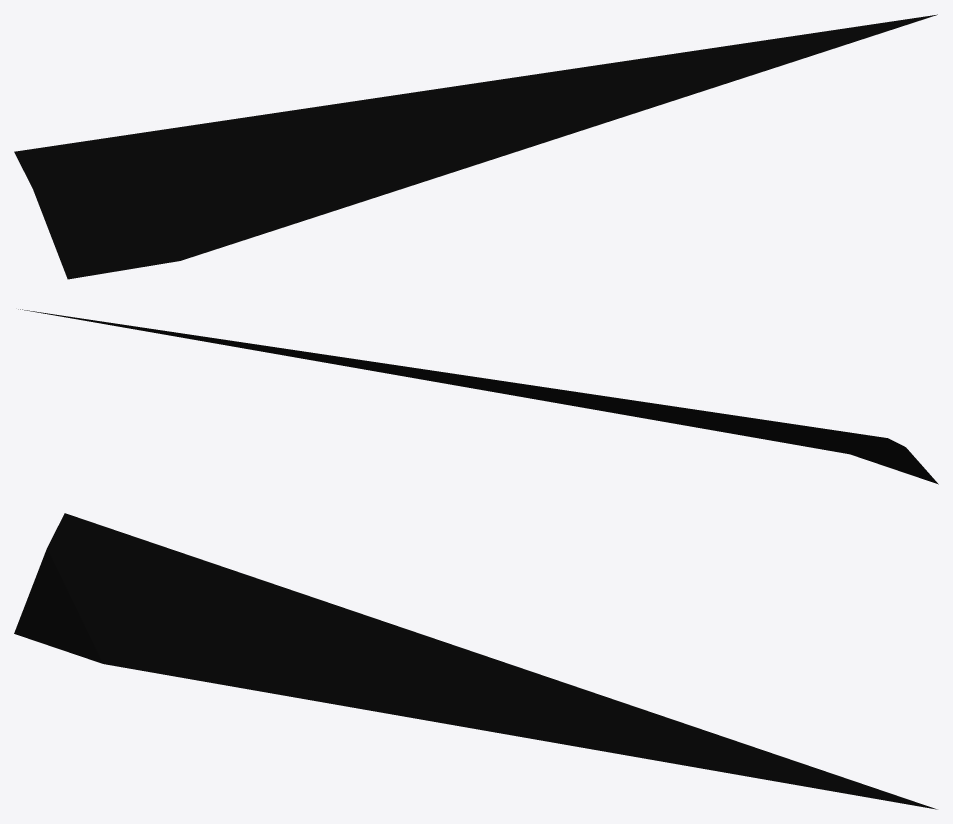
3 views of the same model, one above another, from view 1: azimuth 30°, elevation 25°; view 2: azimuth 150°, elevation 25°; view 3: azimuth 330°, elevation 25° (orthographic). The views are drawn at different scales.
Size of the model in its own units: 0.0129 by 0.00118 by 0.00152.
1 material, 1 textured.
